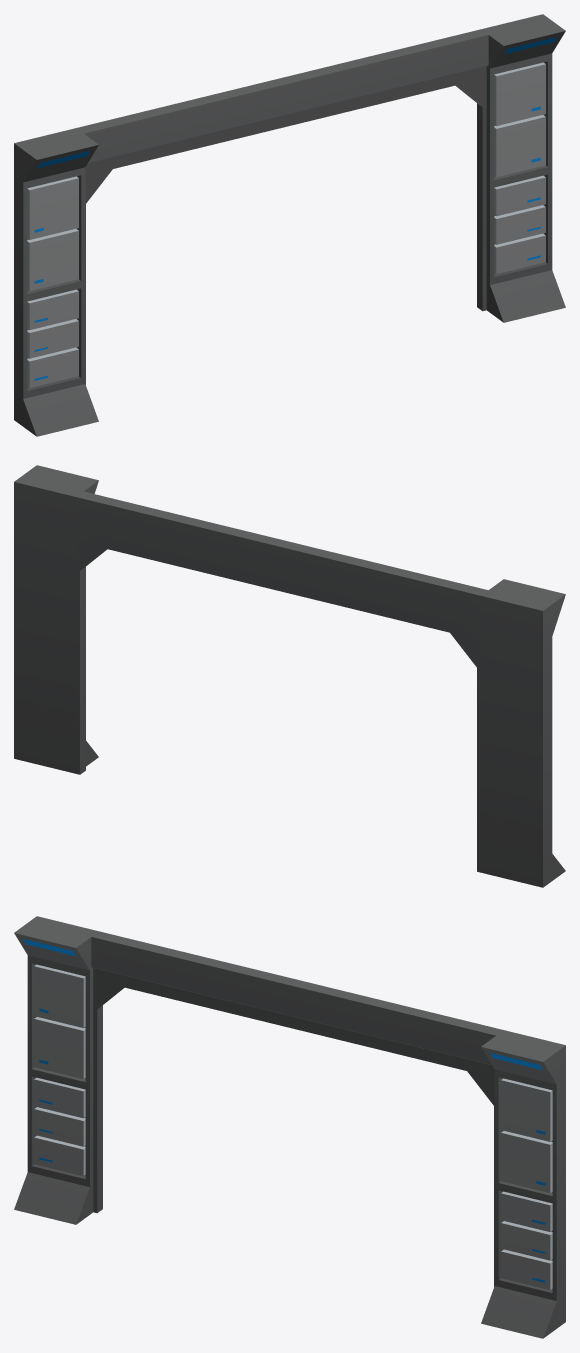
Rendered from Wall_type_B_063.fbx.
The picture shows the model from 3 angles, top to bottom: view 1: azimuth 30°, elevation 25°; view 2: azimuth 150°, elevation 25°; view 3: azimuth 330°, elevation 25°; orthographic projection.
Parts seen in each view (by area): view 1: Wall_type_B_063; view 2: Wall_type_B_063; view 3: Wall_type_B_063.
Part boxes in pixels (x1,y1,x2,y2): Wall_type_B_063: (14,14,565,436); Wall_type_B_063: (14,465,565,887); Wall_type_B_063: (14,916,565,1338).
Size of the model in its own units: 800 by 60 by 400.
